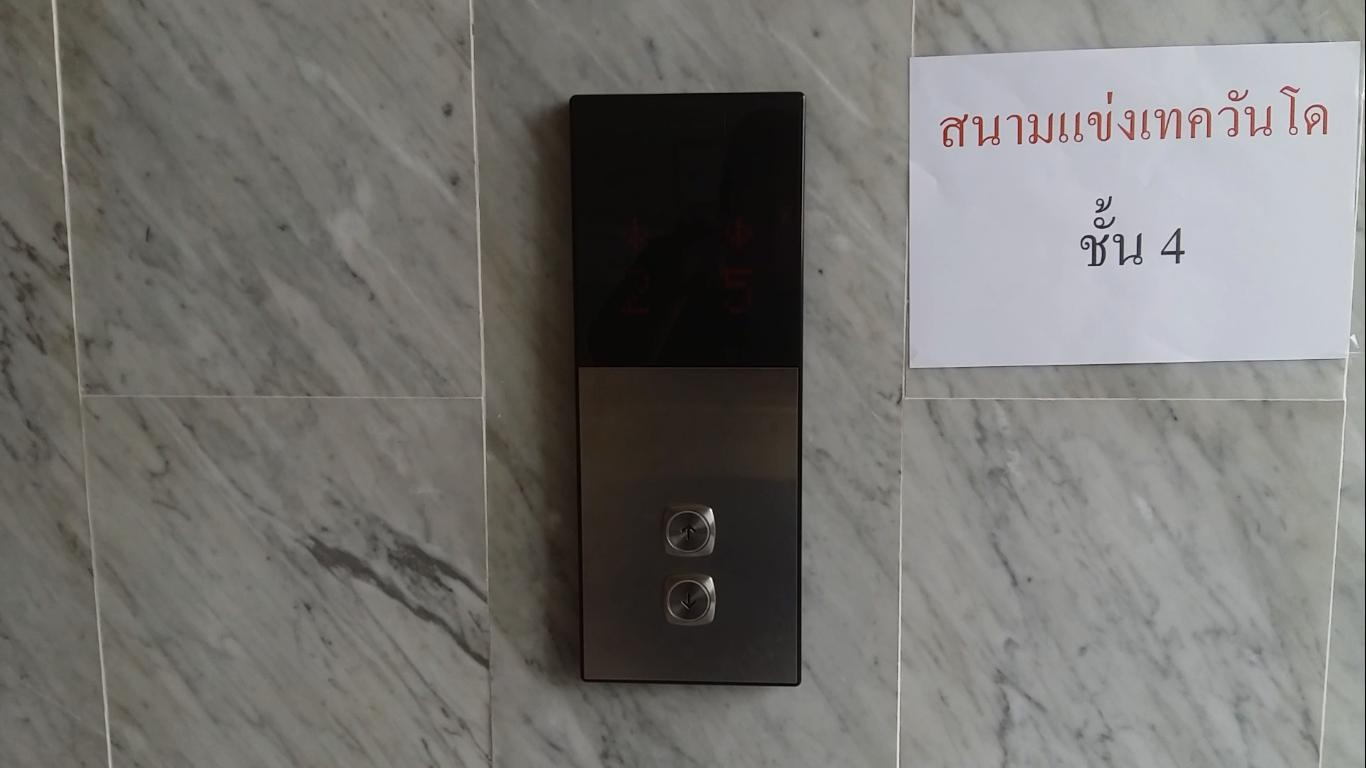down: (658, 569, 717, 628)
led: (566, 88, 806, 368)
up: (660, 501, 717, 557)
